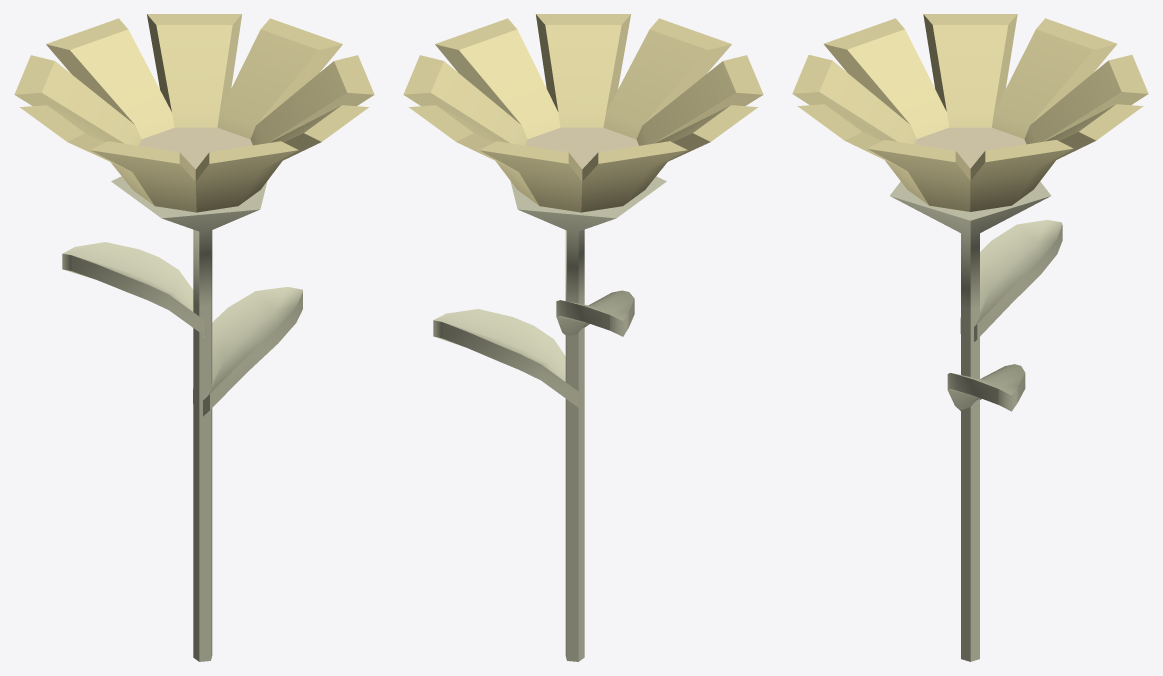
The model's file is flower04.fbx.
3 views of the same model, side by side, from view 1: azimuth 30°, elevation 25°; view 2: azimuth 150°, elevation 25°; view 3: azimuth 270°, elevation 25° (orthographic).
Visible parts, largest first — view 1: pPipe19, pPipe17, pCube10, pCube11, pCylinder3; view 2: pPipe19, pPipe17, pCube10, pCube11, pCylinder3; view 3: pPipe19, pPipe17, pCube11, pCube10, pCylinder3.
Boxes of the visible parts, bbox=[...] form: pPipe19: bbox=[14, 14, 374, 212]; pPipe17: bbox=[111, 176, 267, 661]; pCube10: bbox=[193, 287, 302, 416]; pCube11: bbox=[62, 242, 205, 337]; pCylinder3: bbox=[139, 127, 252, 169]; pPipe19: bbox=[403, 14, 763, 212]; pPipe17: bbox=[510, 176, 666, 661]; pCube10: bbox=[433, 309, 579, 408]; pCube11: bbox=[556, 290, 634, 336]; pCylinder3: bbox=[525, 127, 638, 169]; pPipe19: bbox=[792, 14, 1148, 211]; pPipe17: bbox=[890, 181, 1051, 661]; pCube11: bbox=[960, 220, 1062, 341]; pCube10: bbox=[947, 364, 1025, 411]; pCylinder3: bbox=[914, 127, 1026, 168].
Bounding box in the file's own units: 4.88 × 8.69 × 4.96.
